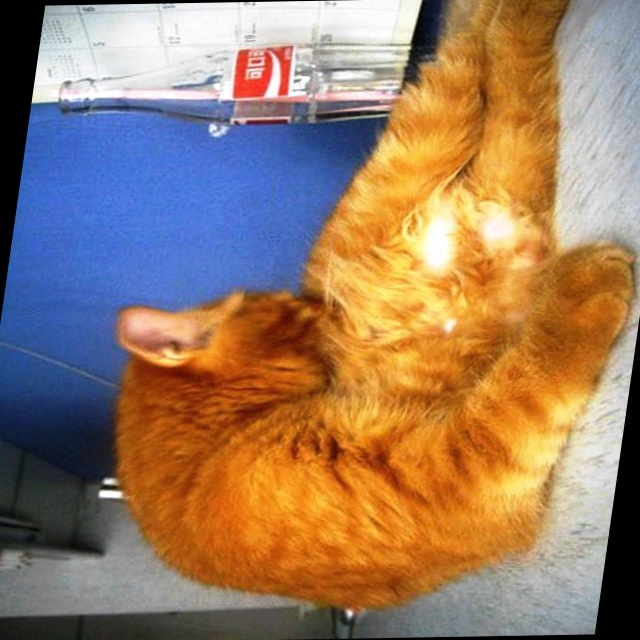hairloss: (418, 198, 539, 267)
